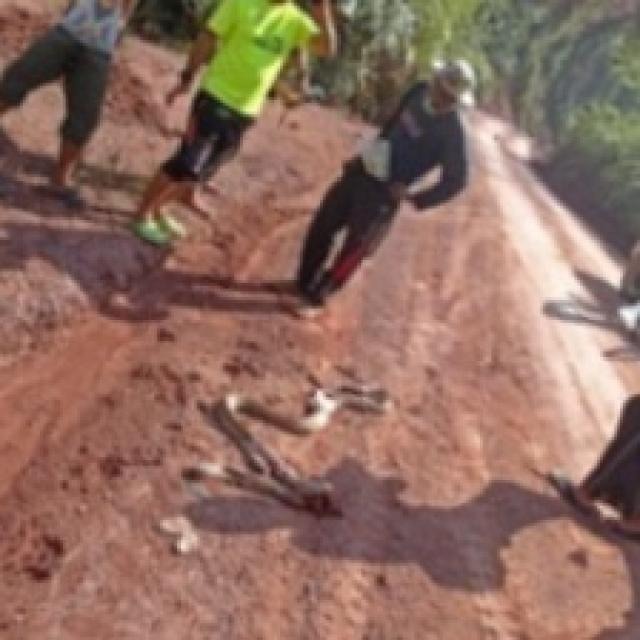king cobra: (184, 385, 389, 515)
